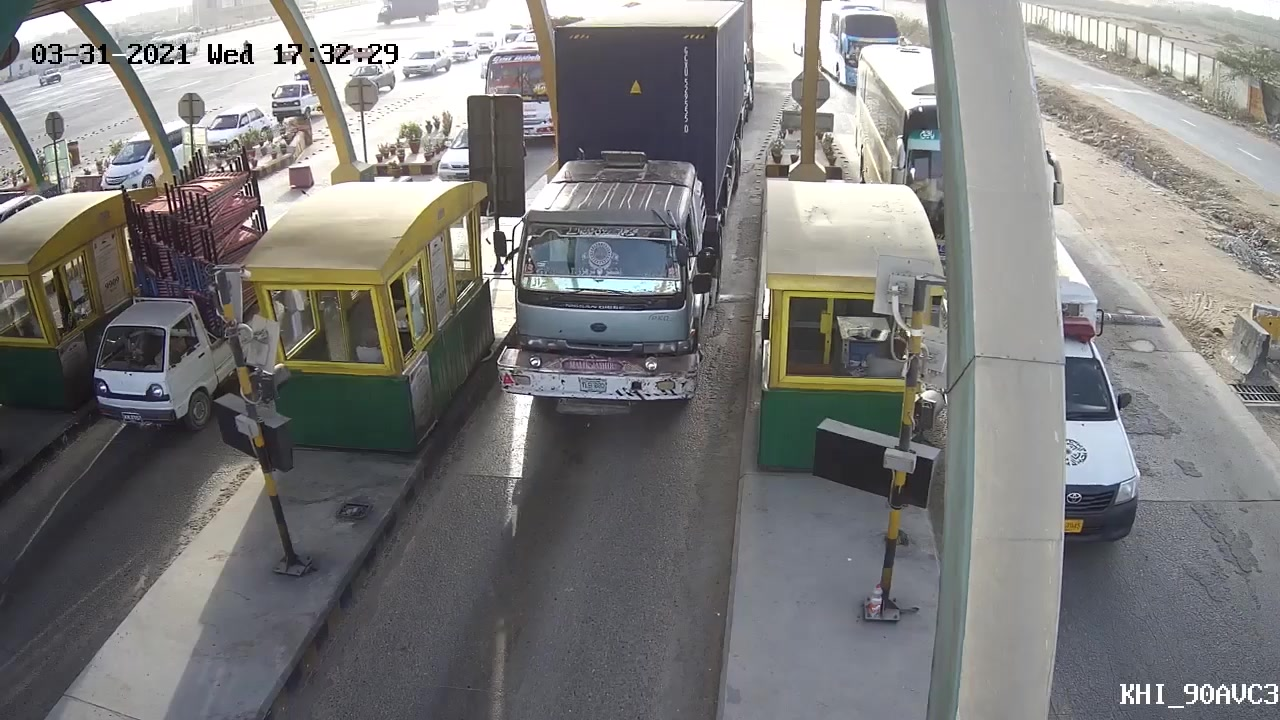F6: (513, 1, 760, 425)
